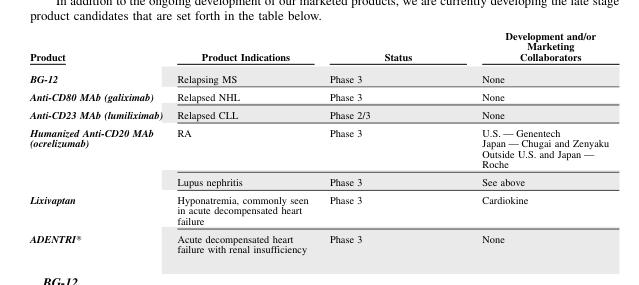table: (29, 29, 608, 254)
table column: (446, 29, 608, 254), (169, 29, 318, 254), (29, 29, 169, 254), (318, 29, 446, 254)
table column header: (29, 29, 608, 50)
table row: (29, 123, 608, 172), (29, 190, 608, 229), (29, 229, 608, 254), (29, 29, 608, 50), (29, 67, 608, 87), (29, 87, 608, 105), (29, 105, 608, 123), (29, 172, 608, 190), (29, 50, 608, 67)
table spanning cell: (29, 123, 169, 190)
